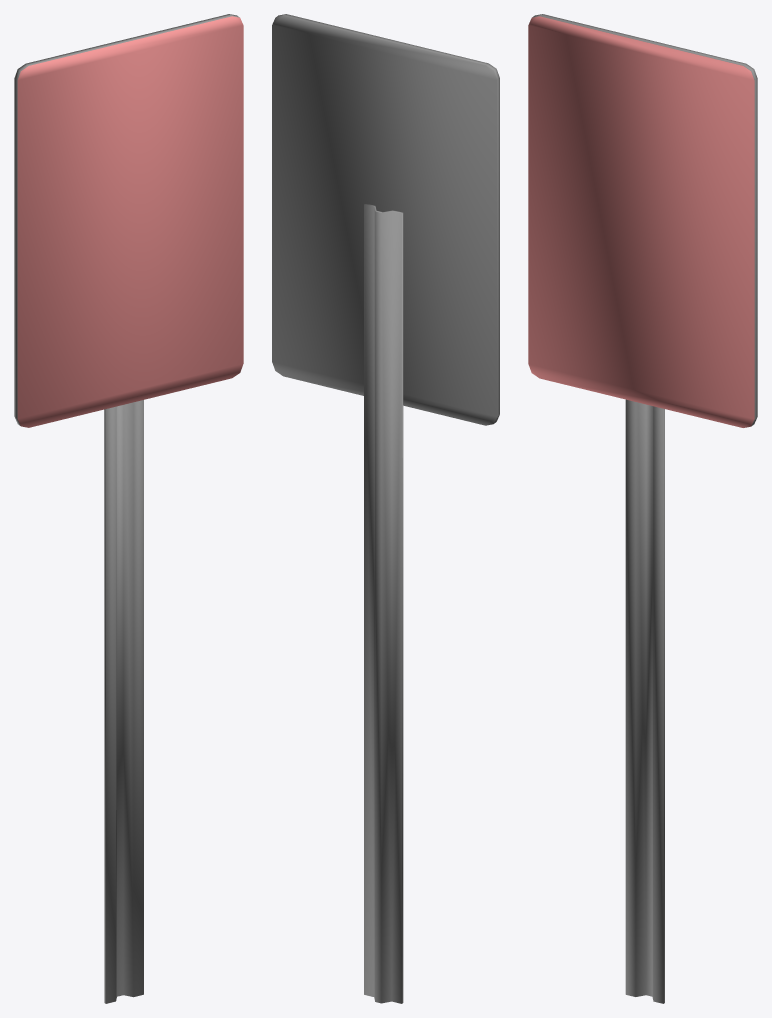
File: SM_Speed_Sign_1.gltf
3 renders of one model, left to right at view 1: azimuth 30°, elevation 25°; view 2: azimuth 150°, elevation 25°; view 3: azimuth 330°, elevation 25°, orthographic.
Visible parts, largest first — view 1: SM_Speed_Sign_1; view 2: SM_Speed_Sign_1; view 3: SM_Speed_Sign_1.
Part boxes in pixels (box(x1,y1,x2,y2)): SM_Speed_Sign_1: box(14, 14, 243, 1003); SM_Speed_Sign_1: box(272, 14, 499, 1003); SM_Speed_Sign_1: box(528, 14, 757, 1003).
Size of the model in its own units: 0.7361 by 2.99 by 0.059.
